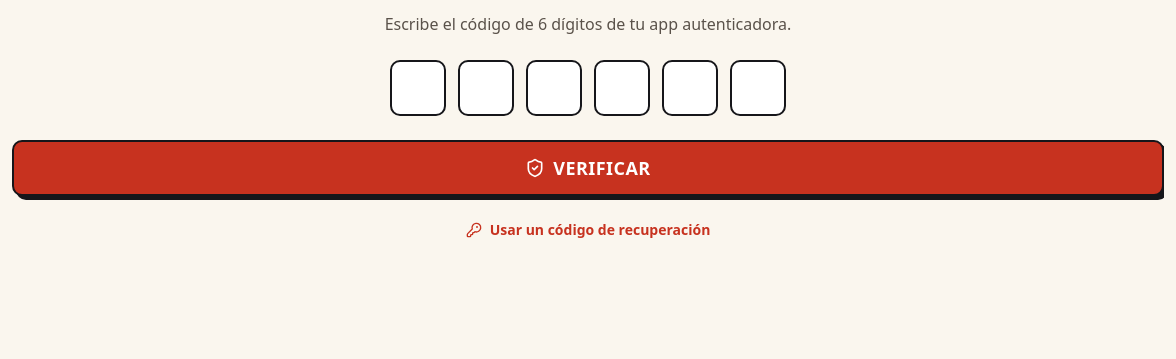
TwoFactorForm › pide los 6 digitos si se envia incompleto
Click the button "Verificar" at (588, 168), box [12, 140, 1164, 196]
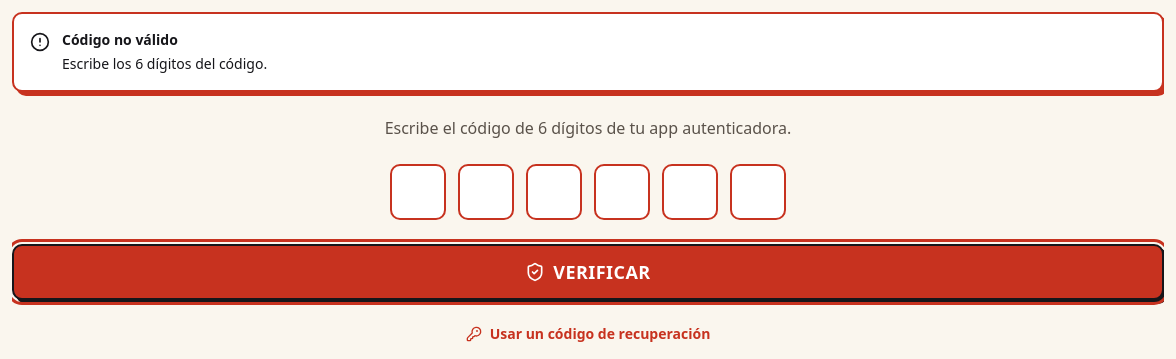
Expected: the text "Escribe los 6 dígitos del código." is shown, [62, 54, 267, 74]
